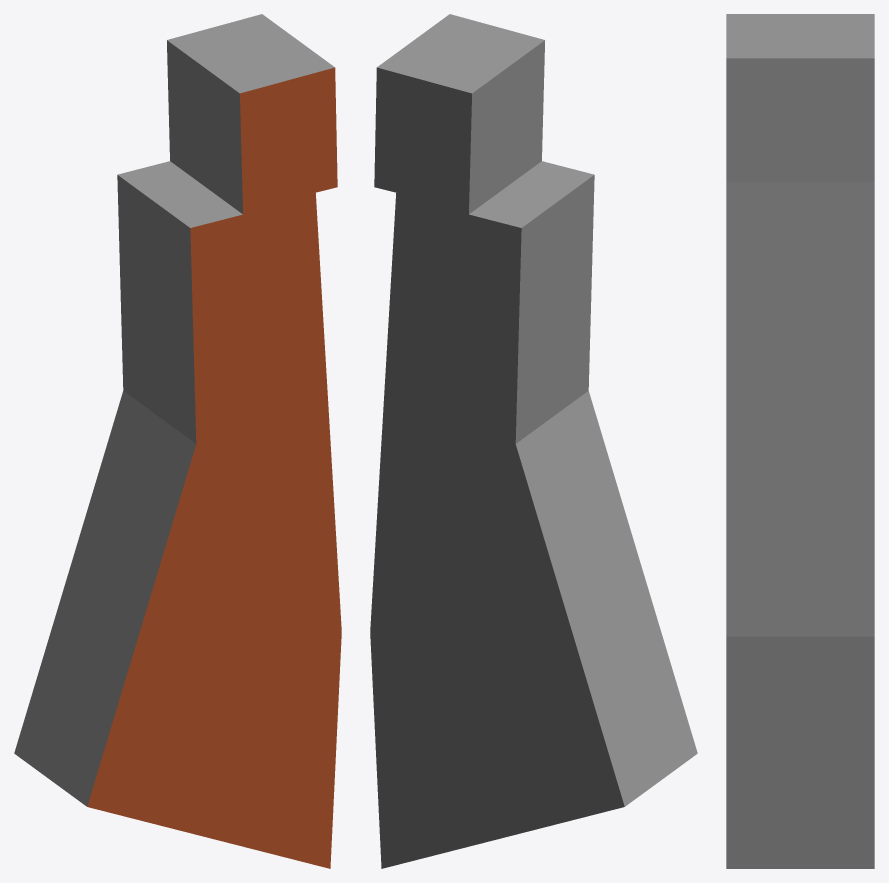
File: construction_0772_assumed_A_Casa_h6m.obj
3 views of the same model, side by side, from view 1: azimuth 30°, elevation 25°; view 2: azimuth 150°, elevation 25°; view 3: azimuth 270°, elevation 25° (orthographic).
Visible parts, largest first — view 1: construction_0772_assumed_A_Casa; view 2: construction_0772_assumed_A_Casa; view 3: construction_0772_assumed_A_Casa.
Boxes of the visible parts, left/top/right/bottom form: construction_0772_assumed_A_Casa: left=14, top=14, right=341, bottom=868; construction_0772_assumed_A_Casa: left=370, top=14, right=697, bottom=868; construction_0772_assumed_A_Casa: left=726, top=14, right=874, bottom=868.
Size of the model in its own units: 12.08 by 36.28 by 6.
